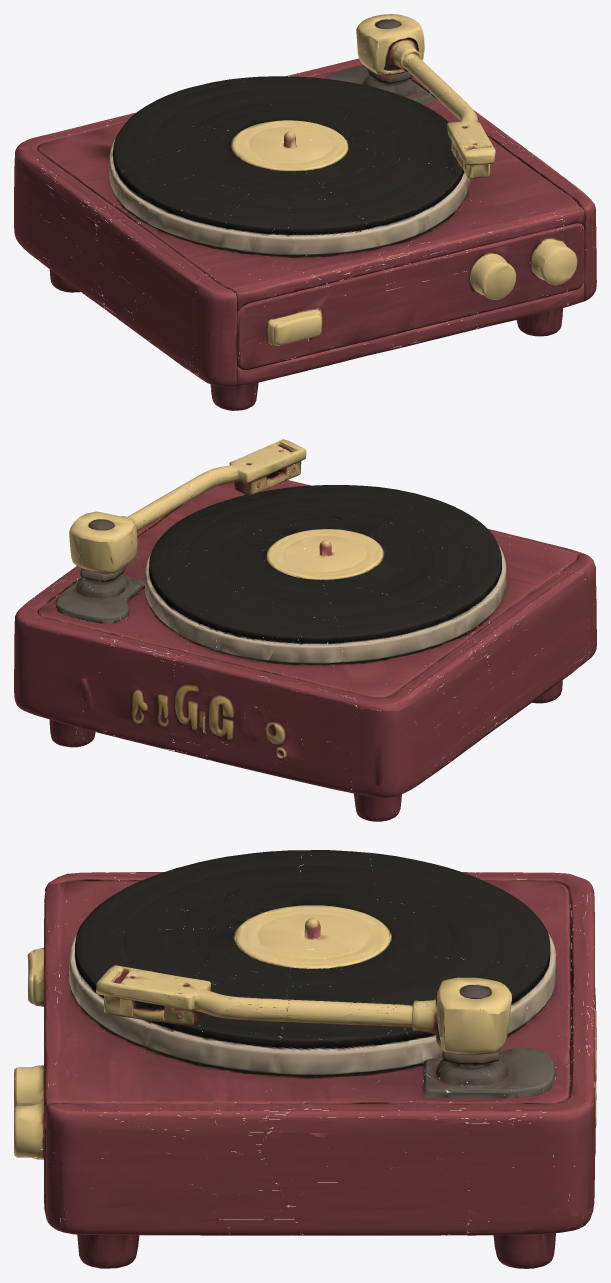
The model's file is turntable.parts.glb.
The picture shows the model from 3 angles, top to bottom: view 1: azimuth 30°, elevation 25°; view 2: azimuth 150°, elevation 25°; view 3: azimuth 270°, elevation 25°; orthographic projection. The views are drawn at different scales.
Visible parts, largest first — view 1: mechanism, body; view 2: mechanism, body; view 3: mechanism, body.
Part boxes in pixels (x1,y1,x2,y2): mechanism: (14,14,595,310); body: (14,165,596,410); mechanism: (14,439,595,723); body: (14,578,596,821); mechanism: (44,850,595,1136); body: (14,919,596,1268).
Bounding box in the file's own units: 0.9804 × 0.4863 × 0.9757.
Materials: 1 (1 with a texture image).
